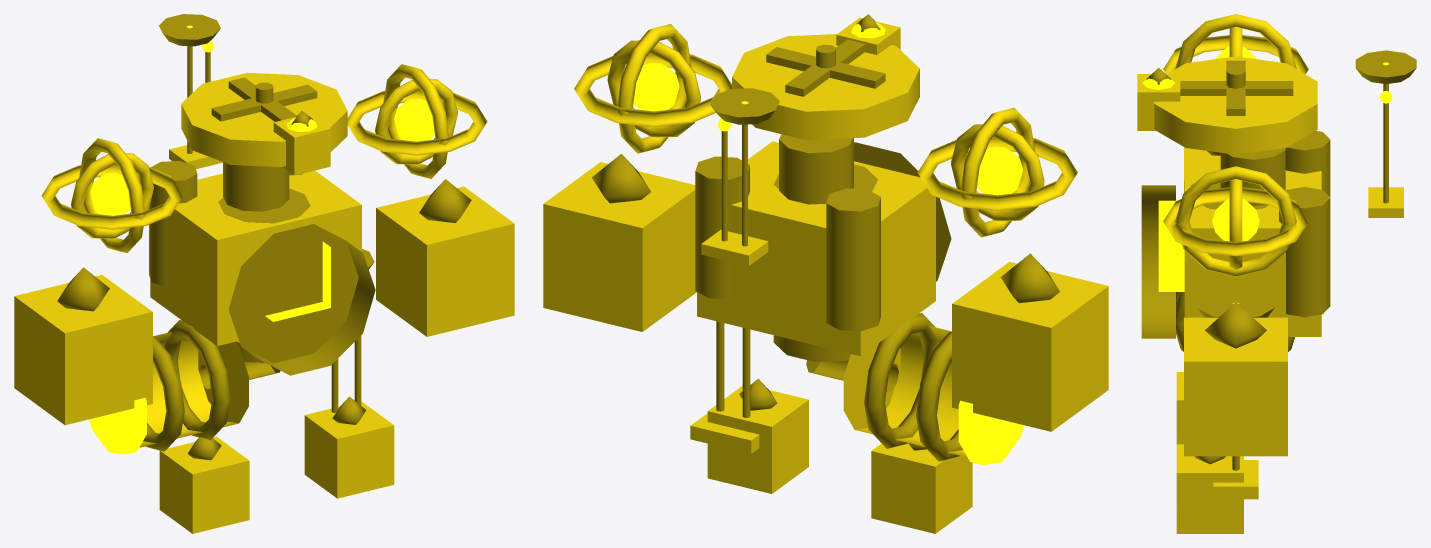
The model's file is golem_113.glb.
3 renders of one model, left to right at view 1: azimuth 30°, elevation 25°; view 2: azimuth 150°, elevation 25°; view 3: azimuth 270°, elevation 25°, orthographic. The views are drawn at different scales.
Parts seen in each view (by area): view 1: Body, Detail, Glow; view 2: Body, Detail, Glow; view 3: Body, Detail, Glow.
Part boxes in pixels (box(x1,y1,x2,y2)): Body: box(14, 64, 514, 533); Detail: box(57, 14, 471, 460); Glow: box(89, 25, 434, 454); Body: box(543, 17, 1108, 533); Detail: box(592, 14, 1059, 461); Glow: box(633, 22, 1024, 464); Body: box(1137, 14, 1403, 533); Detail: box(1141, 50, 1416, 470); Glow: box(1142, 46, 1392, 303).
Bounding box in the file's own units: 1.13 × 0.9828 × 0.5926.
